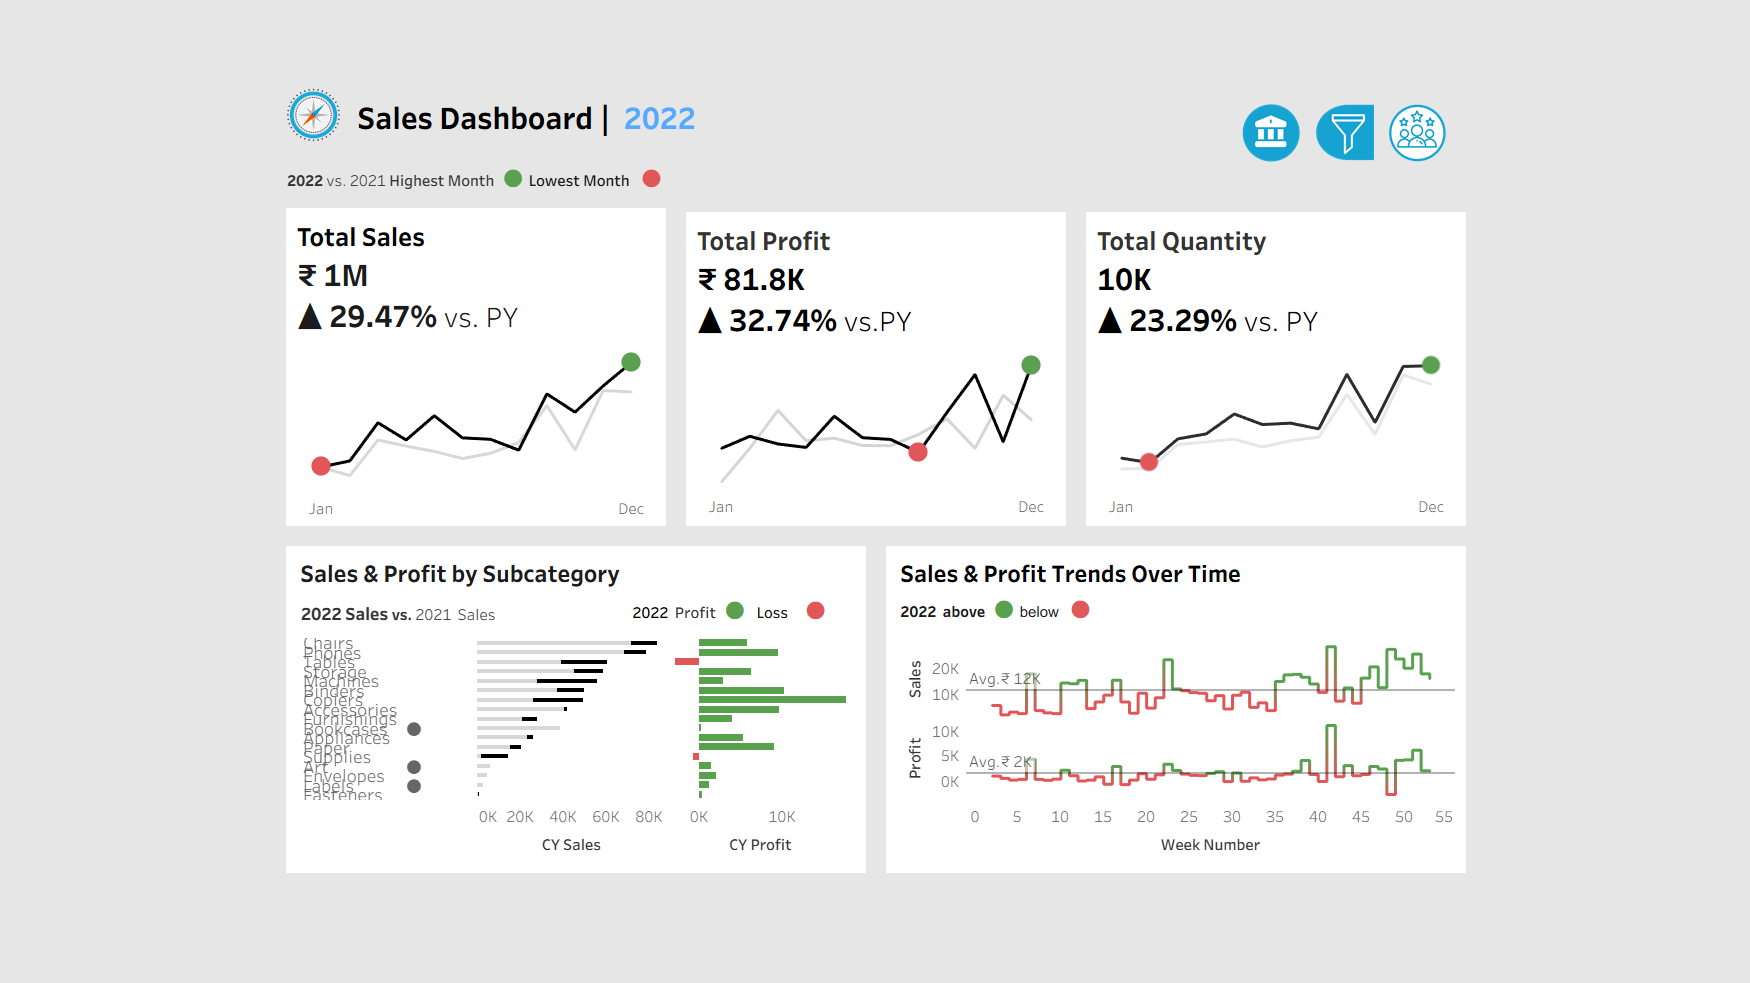

This screenshot's page, from the dashboard's own definition file:
{"tool":"tableau","page":{"name":"Sales Dashboard","canvas":[1200,800],"ordinal":1},"visuals":[{"type":"image","param":"Image/Icon - Logo.png","box":[0,0,74,67]},{"type":"text","box":[74,0,906,67]},{"type":"text","box":[954,3,243,197]},{"type":"dashboard-object","box":[958,16,74,67]},{"type":"dashboard-object","box":[1032,16,73,67]},{"type":"dashboard-object","box":[1105,16,73,67]},{"type":"worksheet","title":"Legend KPIs","mark":"Automatic","box":[0,67,1200,58]},{"type":"worksheet","title":"KPI Sales","mark":"Automatic","rows":["Calculation_0806549947023364"],"cols":["Order Date"],"box":[0,125,400,328]},{"type":"worksheet","title":"KPI Profit","mark":"Automatic","rows":["Calculation_1475327915094024"],"cols":["Order Date"],"box":[400,125,400,328]},{"type":"worksheet","title":"KPI Quantity","mark":"Automatic","rows":["Calculation_1475327921704975"],"cols":["Order Date"],"box":[800,125,400,328]},{"type":"parameter","param":"[Parameters].[Parameter 1]","box":[954,200,243,94]},{"type":"text","box":[954,294,243,83]},{"type":"filter","title":"KPI Sales","param":"[federated.039qkze1vgfwla18uw7mo0r3dhva].[none:Category:nk]","box":[954,377,243,61]},{"type":"filter","title":"KPI Sales","param":"[federated.039qkze1vgfwla18uw7mo0r3dhva].[none:Sub-Category:nk]","box":[954,438,243,61]},{"type":"text","box":[17,470,566,40]},{"type":"text","box":[617,470,566,40]},{"type":"text","box":[954,499,243,97]},{"type":"worksheet","title":"Legend Subcategory","mark":"Automatic","box":[17,510,332,41]},{"type":"text","box":[349,510,234,41]},{"type":"text","box":[617,510,566,38]},{"type":"worksheet","title":"Sales & Profit by Subcategory","mark":"Bar","rows":["Sub-Category","Calculation_1475327927005202"],"cols":["Calculation_0806549945032704","Calculation_0806549945430017","Calculation_1475327914274822"],"box":[17,551,566,232]},{"type":"worksheet","title":"Sales & Profit Trends Over Time","mark":"Automatic","rows":["Calculation_0806549945032704","Calculation_1475327914274822"],"cols":["Order Date"],"box":[617,554.3,566,228.7]},{"type":"filter","title":"KPI Sales","param":"[federated.039qkze1vgfwla18uw7mo0r3dhva].[none:Region:nk]","box":[954,596,243,61]},{"type":"filter","title":"KPI Sales","param":"[federated.039qkze1vgfwla18uw7mo0r3dhva].[none:State:nk]","box":[954,657,243,61]},{"type":"filter","title":"KPI Sales","param":"[federated.039qkze1vgfwla18uw7mo0r3dhva].[none:City:nk]","box":[954,718,243,61]}]}

Visuals, with their boxes on the page's 1200x800 design canvas (x1, y1, x2, y2). These are canvas units, not pixel positions in the 1750x983 screenshot, which may show the page scaled, cropped or inside an application window:
image: left=0, top=0, right=74, bottom=67
text: left=74, top=0, right=980, bottom=67
text: left=954, top=3, right=1197, bottom=200
dashboard-object: left=958, top=16, right=1032, bottom=83
dashboard-object: left=1032, top=16, right=1105, bottom=83
dashboard-object: left=1105, top=16, right=1178, bottom=83
"Legend KPIs" worksheet: left=0, top=67, right=1200, bottom=125
"KPI Sales" worksheet: left=0, top=125, right=400, bottom=453
"KPI Profit" worksheet: left=400, top=125, right=800, bottom=453
"KPI Quantity" worksheet: left=800, top=125, right=1200, bottom=453
parameter: left=954, top=200, right=1197, bottom=294
text: left=954, top=294, right=1197, bottom=377
"KPI Sales" filter: left=954, top=377, right=1197, bottom=438
"KPI Sales" filter: left=954, top=438, right=1197, bottom=499
text: left=17, top=470, right=583, bottom=510
text: left=617, top=470, right=1183, bottom=510
text: left=954, top=499, right=1197, bottom=596
"Legend Subcategory" worksheet: left=17, top=510, right=349, bottom=551
text: left=349, top=510, right=583, bottom=551
text: left=617, top=510, right=1183, bottom=548
"Sales & Profit by Subcategory" worksheet (Bar marks): left=17, top=551, right=583, bottom=783
"Sales & Profit Trends Over Time" worksheet: left=617, top=554, right=1183, bottom=783
"KPI Sales" filter: left=954, top=596, right=1197, bottom=657
"KPI Sales" filter: left=954, top=657, right=1197, bottom=718
"KPI Sales" filter: left=954, top=718, right=1197, bottom=779
